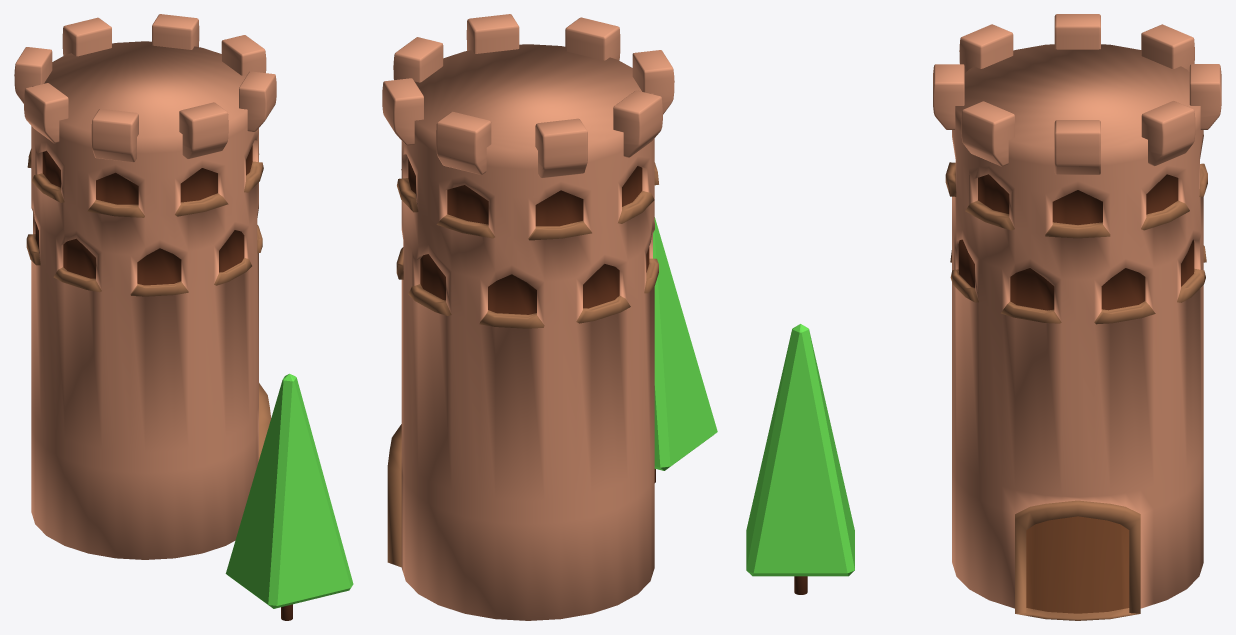
File: castleTitleScreen.fbx
3 renders of one model, left to right at view 1: azimuth 30°, elevation 25°; view 2: azimuth 150°, elevation 25°; view 3: azimuth 270°, elevation 25°, orthographic. The views are drawn at different scales.
Visible parts, largest first — view 1: Cylinder, Cube.008, Cube.003, Cube.007, Cube.006, Cube.001, Cube.004, Cube.002, Cube, Cube.005; view 2: Cylinder, Cube.008, Cube.004, Cube.005, Cube.006, Cube.002, Cube.003, Cube.001, Cube.007, Cube; view 3: Cylinder, Cube.008, Cube.002, Cube.001, Cube, Cube.007, Cube.005, Cube.004, Cube.003, Cube.006.
Part boxes in pixels (bbox=[...]): Cylinder: bbox=[26, 41, 271, 559]; Cube.008: bbox=[225, 373, 353, 608]; Cube.003: bbox=[179, 102, 228, 159]; Cube.007: bbox=[91, 108, 138, 162]; Cube.006: bbox=[24, 83, 68, 143]; Cube.001: bbox=[239, 71, 276, 131]; Cube.004: bbox=[62, 17, 111, 56]; Cube.002: bbox=[152, 14, 199, 49]; Cube: bbox=[221, 35, 266, 75]; Cube.005: bbox=[14, 47, 52, 103]; Cylinder: bbox=[387, 44, 658, 620]; Cube.008: bbox=[653, 217, 717, 470]; Cube.004: bbox=[436, 111, 491, 174]; Cube.005: bbox=[535, 118, 587, 178]; Cube.006: bbox=[613, 90, 662, 157]; Cube.002: bbox=[382, 78, 423, 145]; Cube.003: bbox=[565, 17, 620, 60]; Cube.001: bbox=[466, 14, 519, 53]; Cube.007: bbox=[632, 50, 674, 114]; Cube: bbox=[393, 37, 443, 82]; Cylinder: bbox=[945, 44, 1207, 620]; Cube.008: bbox=[746, 324, 854, 576]; Cube.002: bbox=[1141, 101, 1195, 166]; Cube.001: bbox=[961, 101, 1014, 166]; Cube: bbox=[1054, 120, 1100, 174]; Cube.007: bbox=[959, 24, 1013, 73]; Cube.005: bbox=[1141, 24, 1194, 71]; Cube.004: bbox=[1189, 64, 1221, 129]; Cube.003: bbox=[933, 64, 964, 129]; Cube.006: bbox=[1054, 14, 1100, 49].
Bounding box in the file's own units: 512 × 1016 × 857.
